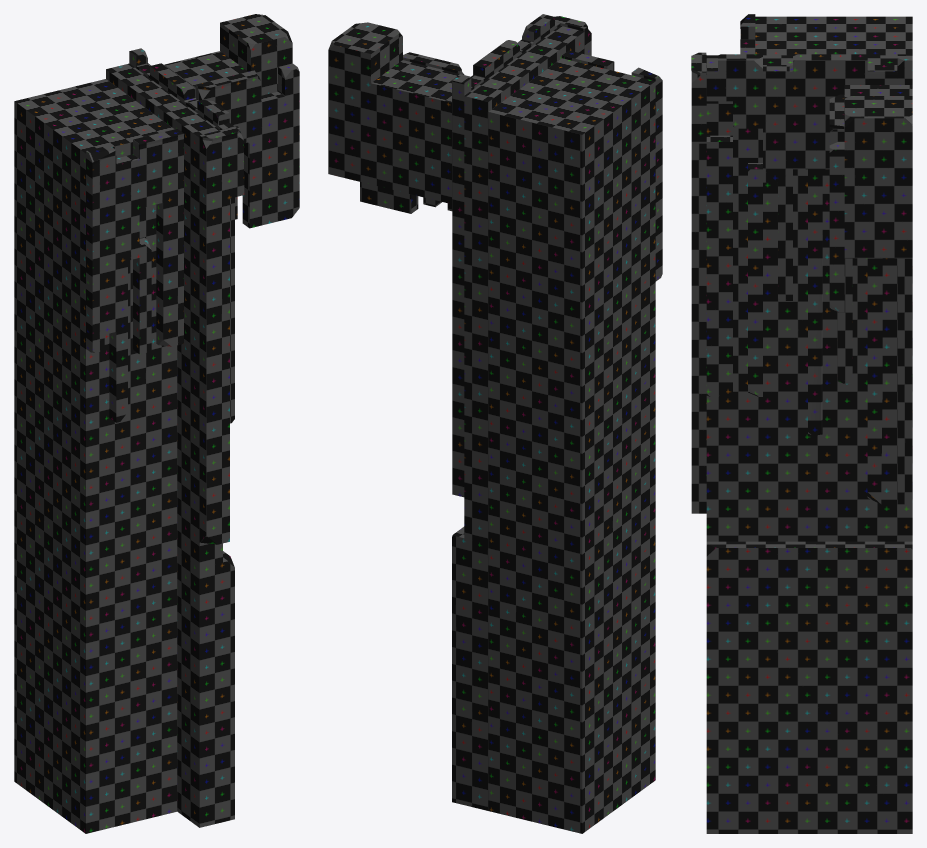
Rendered from platform.glb.
The picture shows the model from 3 angles, left to right: view 1: azimuth 30°, elevation 25°; view 2: azimuth 150°, elevation 25°; view 3: azimuth 270°, elevation 25°; orthographic projection. The views are drawn at different scales.
Visible parts, largest first — view 1: platform; view 2: platform; view 3: platform.
Boxes of the visible parts, x1=… form: platform: x1=14, y1=14, x2=299, y2=833; platform: x1=328, y1=14, x2=662, y2=833; platform: x1=691, y1=14, x2=912, y2=833.
Bounding box in the file's own units: 21.01 × 57.53 × 14.78.
Materials: 1 (1 with a texture image).
